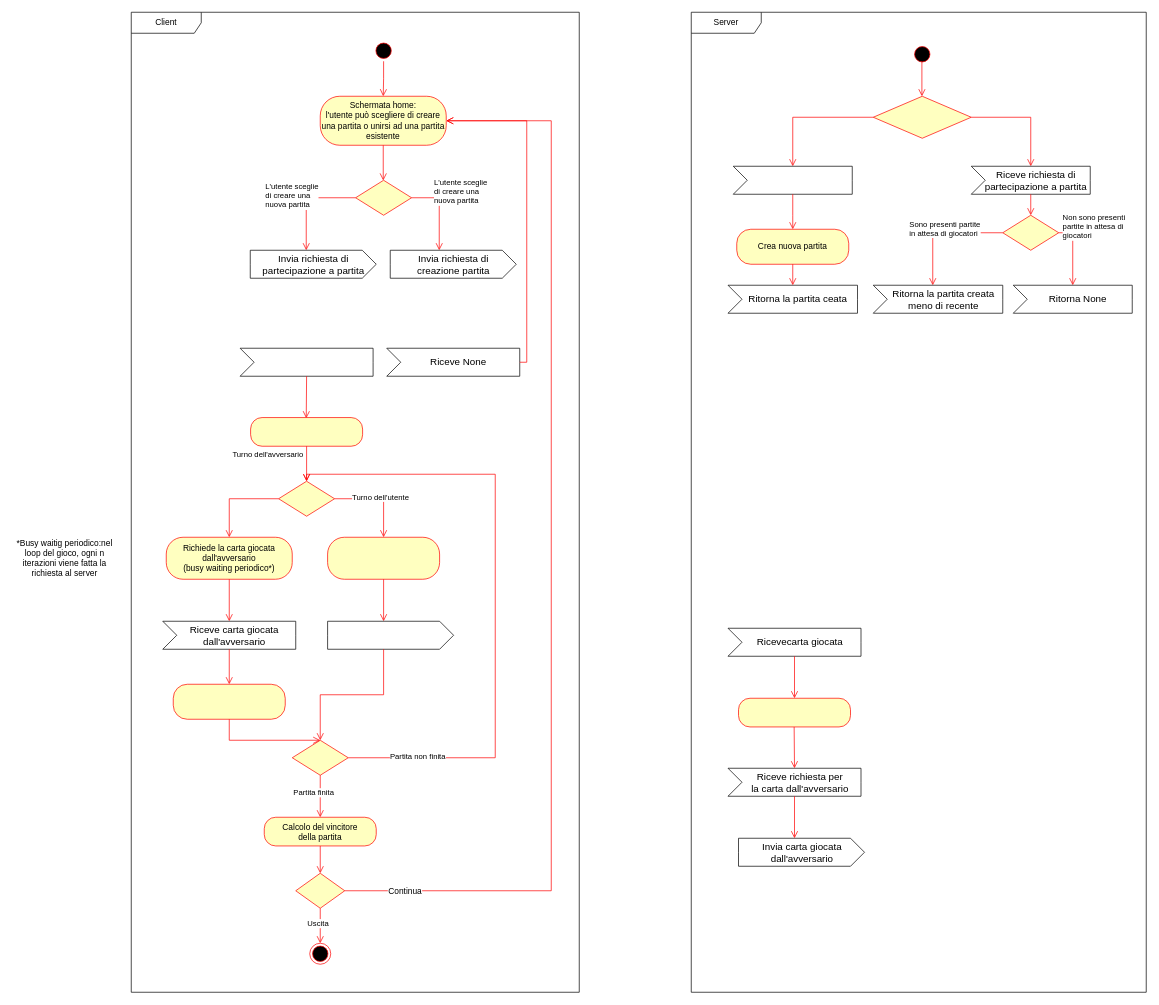
Image size: 1159x1005. Some labels were removed from this diagram. The shapes that lost their labels are listed below. From the top down, each one's centre as x and y in pixels, then its label:
point (922, 117): In attesa di richieste
point (792, 180): Riceve richiesta di creazione partita
point (306, 362): Riceve partita generata dal server
point (306, 431): Avvia partita
point (383, 558): Attende che l'utente giochi (click su una sua carta in mano)
point (390, 635): Invia carta giocata
point (229, 701): Calcolo del vincitore della mano
point (794, 712): Memorizza carta giocata
